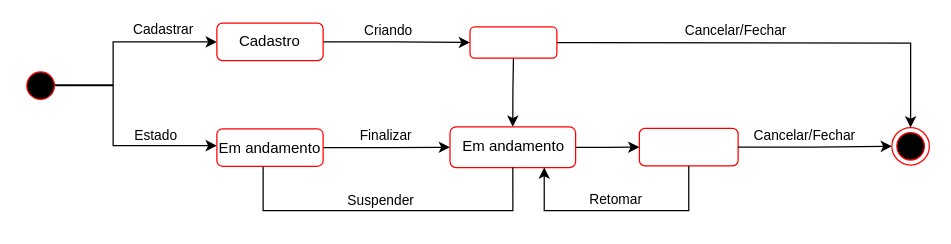
The diagram is 951 pixels wide and 244 high, and some of its shapes have lost their labels. Each missing label, with the centre of its shape:
"Criada" goes at [513,42].
"Finalizada" goes at [688,146].
